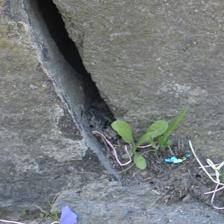Crack: (13, 2, 108, 144)
